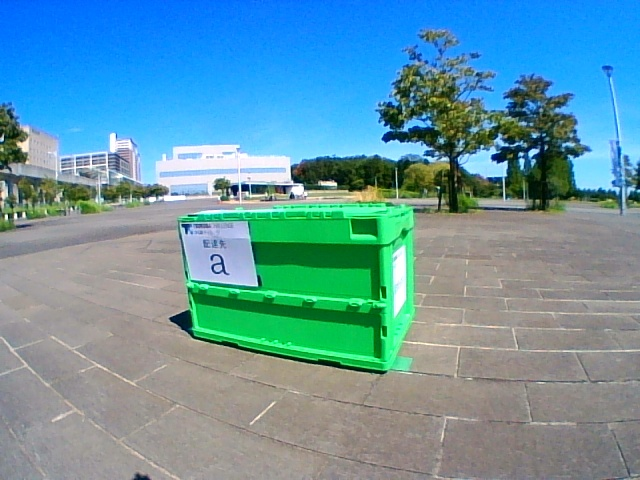green_box: (178, 203, 414, 372)
tag_a: (188, 225, 249, 281)
